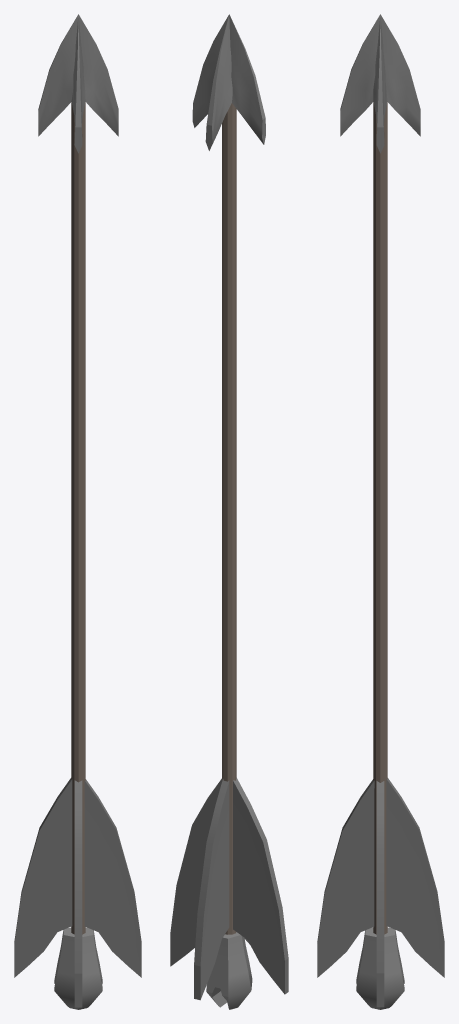
Rendered from Arrow.fbx.
The picture shows the model from 3 angles, left to right: view 1: azimuth 90°, elevation 25°; view 2: azimuth 150°, elevation 25°; view 3: azimuth 270°, elevation 25°; orthographic projection.
Visible parts, largest first — view 1: pCylinder1, pCube7, pCube5, polySurface1, pCylinder3, pCube4, pasted__polySurface1; view 2: pCylinder1, pCube4, pCube7, pCube6, pasted__polySurface1, pCylinder3, polySurface1; view 3: pCylinder1, pCube7, pCube5, polySurface1, pCylinder3, pCube6, pasted__polySurface1.
Part boxes in pixels (left/top/right/bottom): pCylinder1: left=71, top=102, right=85, bottom=934; pCube7: left=14, top=778, right=72, bottom=977; pCube5: left=84, top=779, right=141, bottom=977; polySurface1: left=38, top=14, right=118, bottom=136; pCylinder3: left=54, top=927, right=102, bottom=1009; pCube4: left=74, top=780, right=82, bottom=1007; pasted__polySurface1: left=71, top=14, right=85, bottom=153; pCylinder1: left=222, top=103, right=236, bottom=934; pCube4: left=233, top=778, right=288, bottom=994; pCube7: left=194, top=779, right=229, bottom=1000; pCube6: left=170, top=778, right=221, bottom=966; pasted__polySurface1: left=192, top=14, right=265, bottom=144; pCylinder3: left=206, top=932, right=252, bottom=1009; polySurface1: left=205, top=15, right=232, bottom=150; pCylinder1: left=373, top=102, right=387, bottom=934; pCube7: left=386, top=778, right=444, bottom=977; pCube5: left=317, top=779, right=374, bottom=977; polySurface1: left=340, top=14, right=420, bottom=136; pCylinder3: left=356, top=927, right=404, bottom=1009; pCube6: left=376, top=781, right=384, bottom=1007; pasted__polySurface1: left=373, top=14, right=387, bottom=153.
Size of the model in its own units: 0.8525 by 7.06 by 0.8196.
